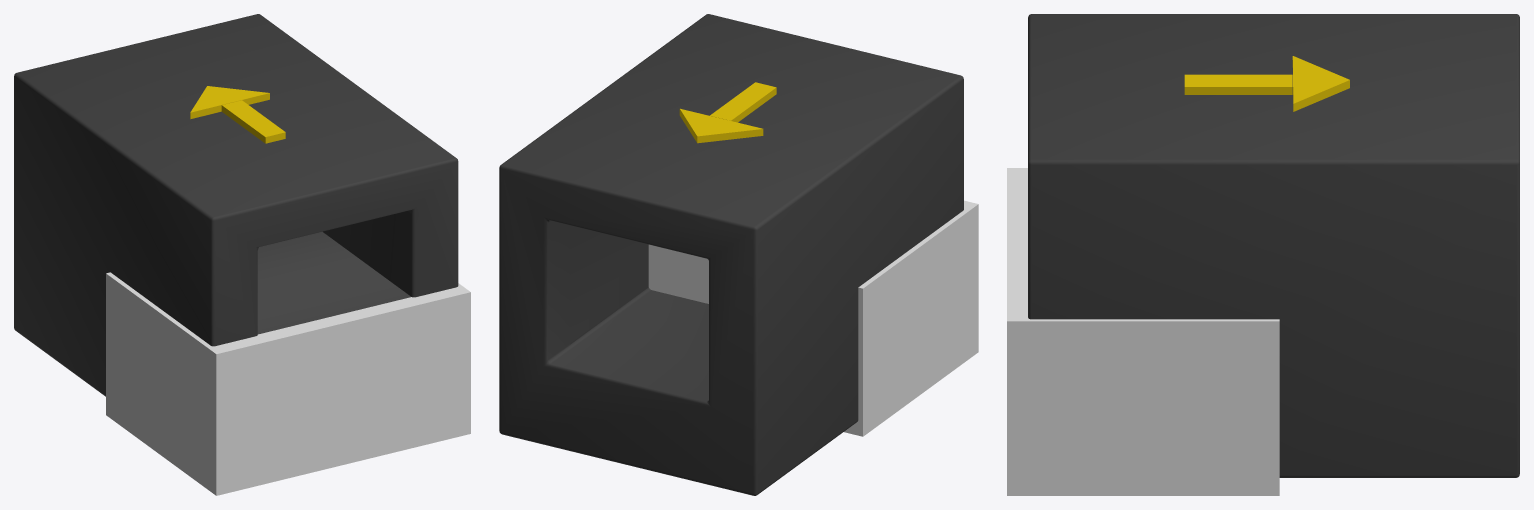
File: vibration_chamber.fbx
3 views of the same model, side by side, from view 1: azimuth 30°, elevation 25°; view 2: azimuth 150°, elevation 25°; view 3: azimuth 270°, elevation 25° (orthographic). The views are drawn at different scales.
Visible parts, largest first — view 1: mainCube, Cube.018, Cube.019, Cube.020; view 2: mainCube, Cube.018, Cube.019, Cube.020; view 3: mainCube, Cube.018, Cube.020, Cube.019.
Part boxes in pixels (<box>): mainCube: <box>14,14,458,396</box>; Cube.018: <box>106,272,470,495</box>; Cube.019: <box>190,86,269,119</box>; Cube.020: <box>221,100,285,143</box>; mainCube: <box>499,14,963,495</box>; Cube.018: <box>648,200,978,436</box>; Cube.019: <box>679,108,763,143</box>; Cube.020: <box>710,82,776,122</box>; mainCube: <box>1028,14,1519,477</box>; Cube.018: <box>1007,168,1279,495</box>; Cube.020: <box>1184,74,1292,94</box>; Cube.019: <box>1292,56,1349,111</box>.
Size of the model in its own units: 90.55 by 94.02 by 128.
